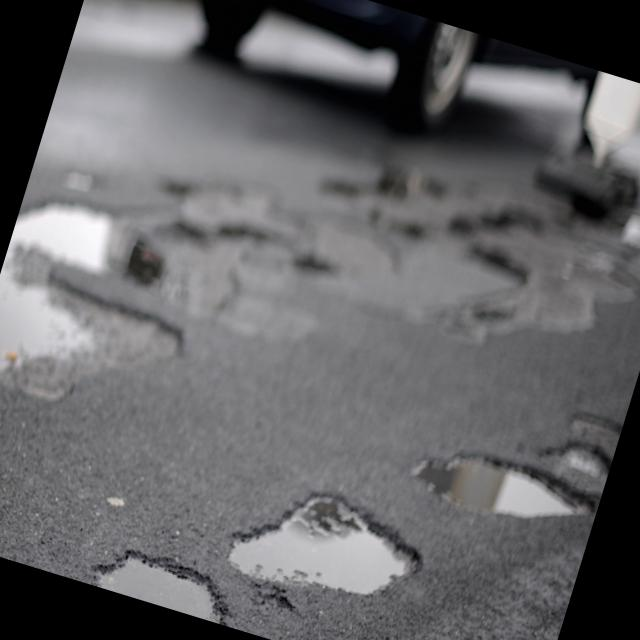Potholes: (213, 444, 438, 626), (393, 412, 602, 572), (84, 534, 246, 628), (541, 411, 620, 509)
